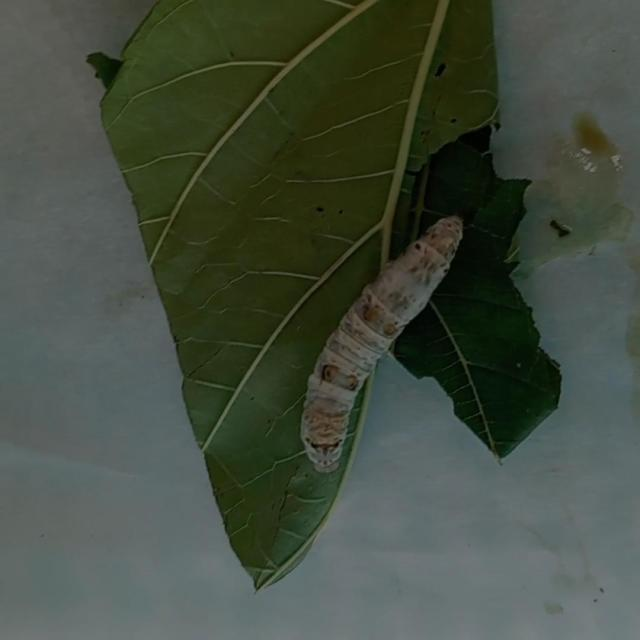Grasserie: (268, 190, 481, 500)
